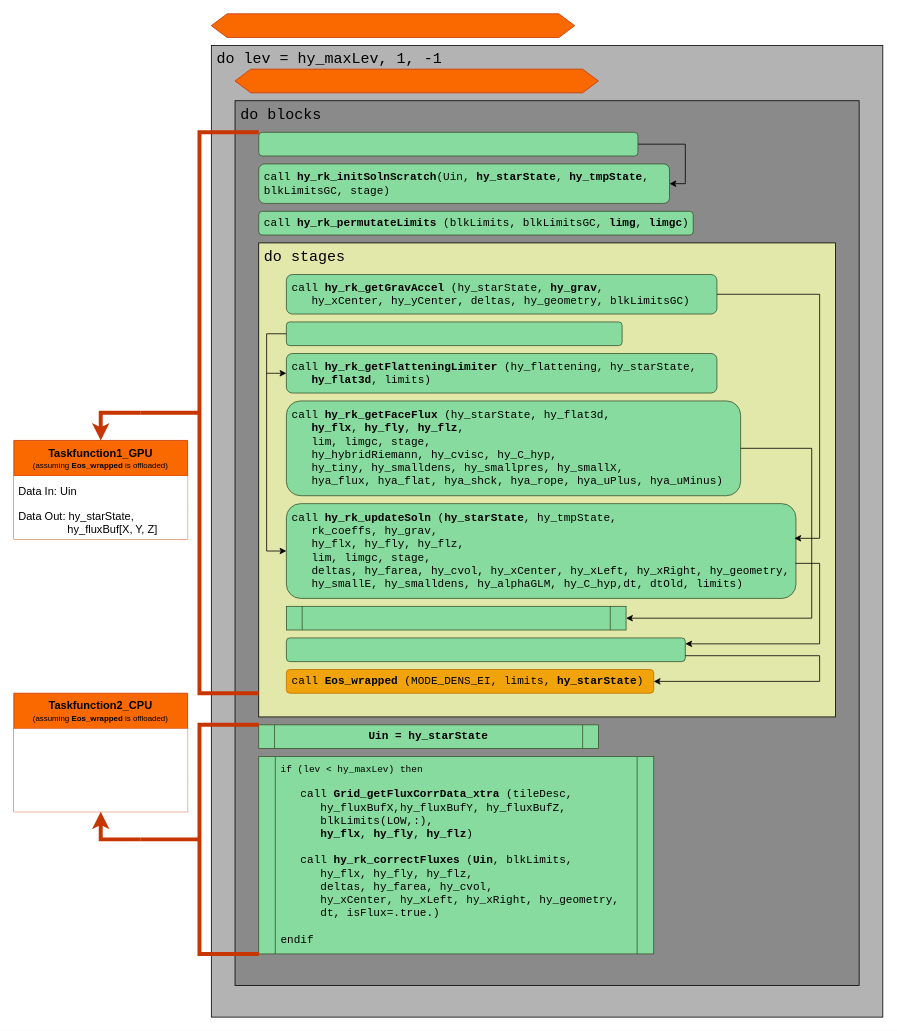
Image size: 897x1031. Some labels were removed from this diagram. Each missing label, with the centre of its shape:
"add hy_fl[x,y,z] to hy_fluxBuf[X,Y,Z]" goes at pixel 456 618.
"call Grid_fillGuardCells" goes at pixel 393 25.
"call hy_rk_calcLimits (stage, blkLimits, limits )" goes at pixel 454 333.
"call hy_rk_shockDetect ( Uin , blkLimitsGC, hy_tiny)" goes at pixel 448 144.
"call Multispecies_renormAbundance (..., hy_starState , ...)" goes at pixel 485 649.
"Data In: Uin, hy_fluxBuf[X, Y, Z] lev" goes at pixel 100 754.
"Data Out: Uin" goes at pixel 100 795.
"if (lev < hy_maxLev) call Grid_communicateFluxes" goes at pixel 416 80.
